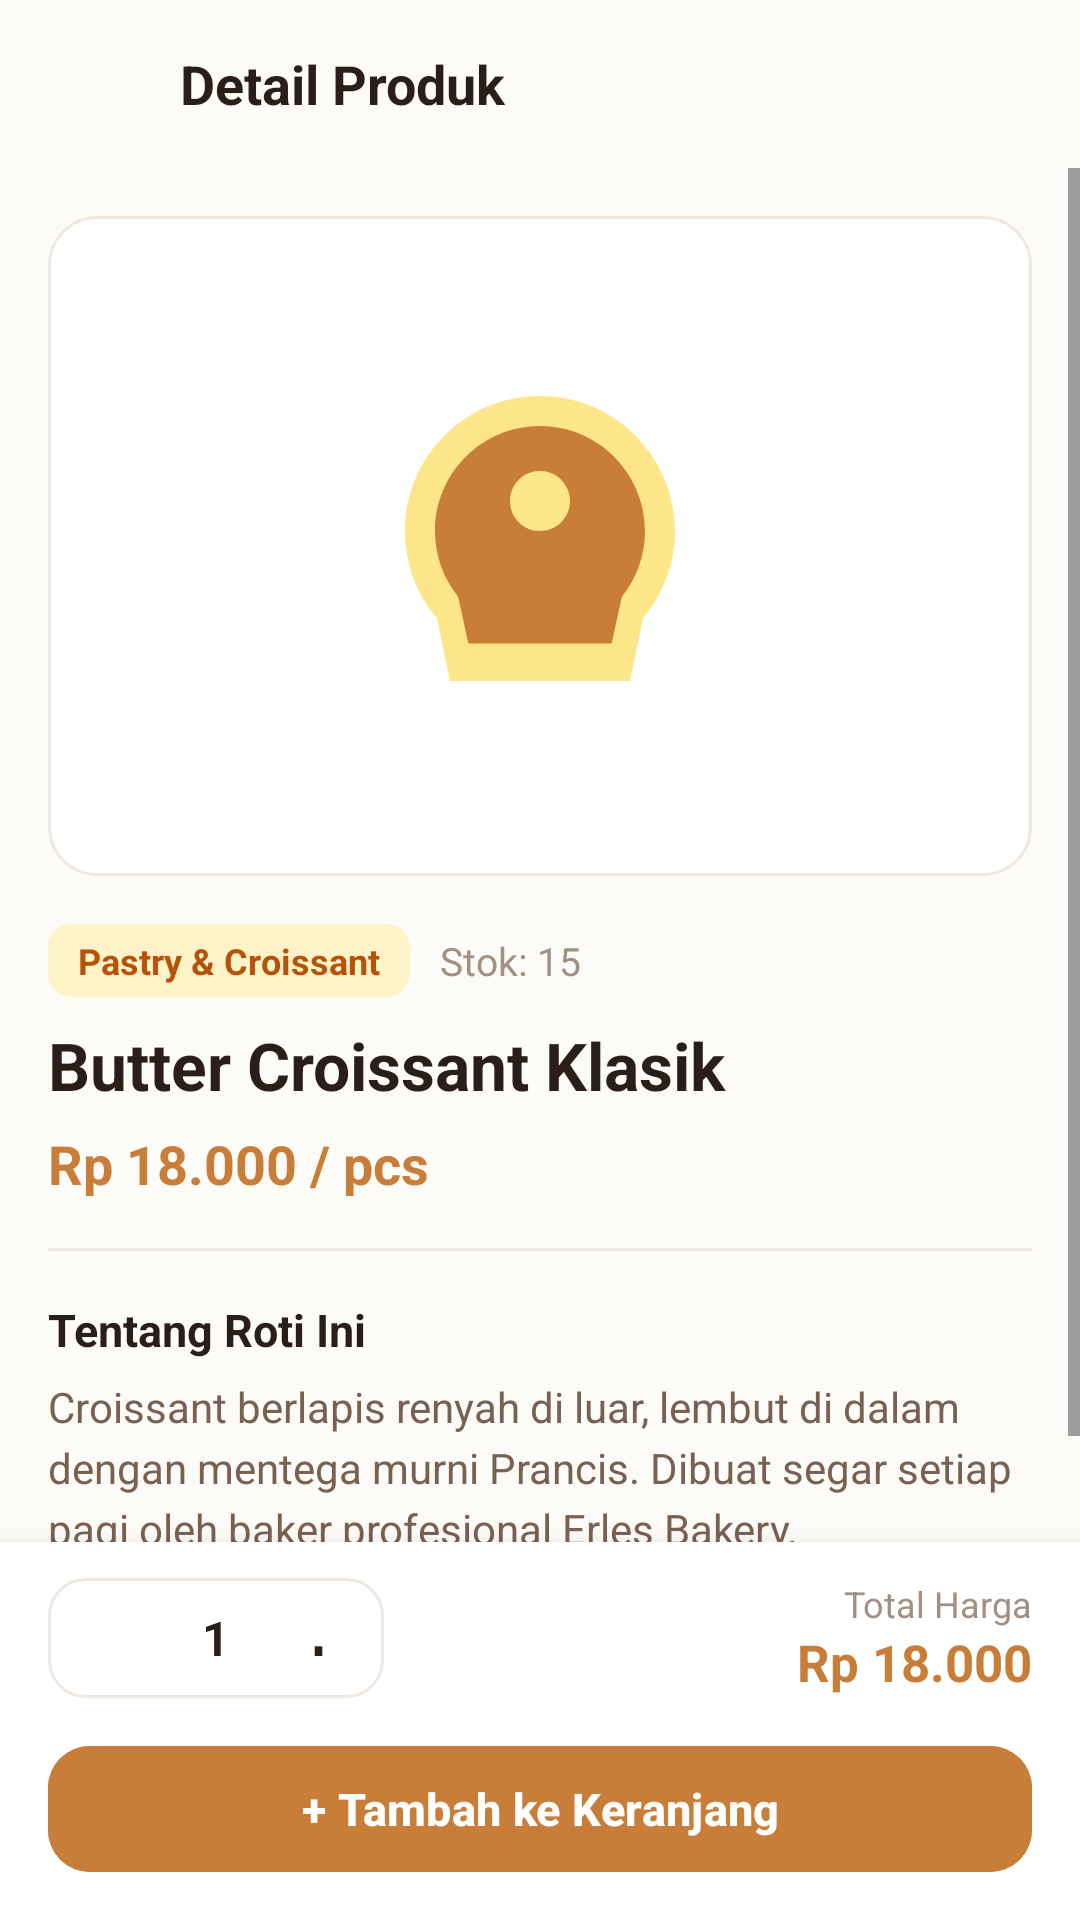

Icon bounding boxes for this 1080 x 1920 phone screenshot, format [x1, y1, x2, y2]:
Foto Produk Roti: [405, 396, 675, 681]
